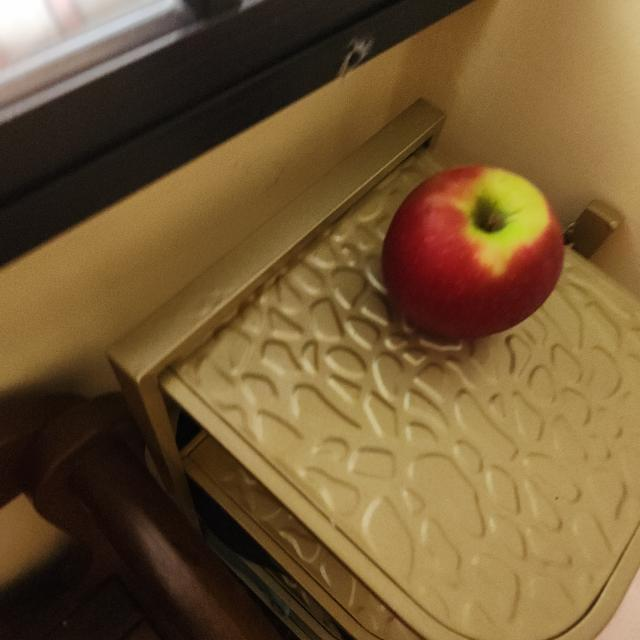apple: (368, 158, 570, 353)
